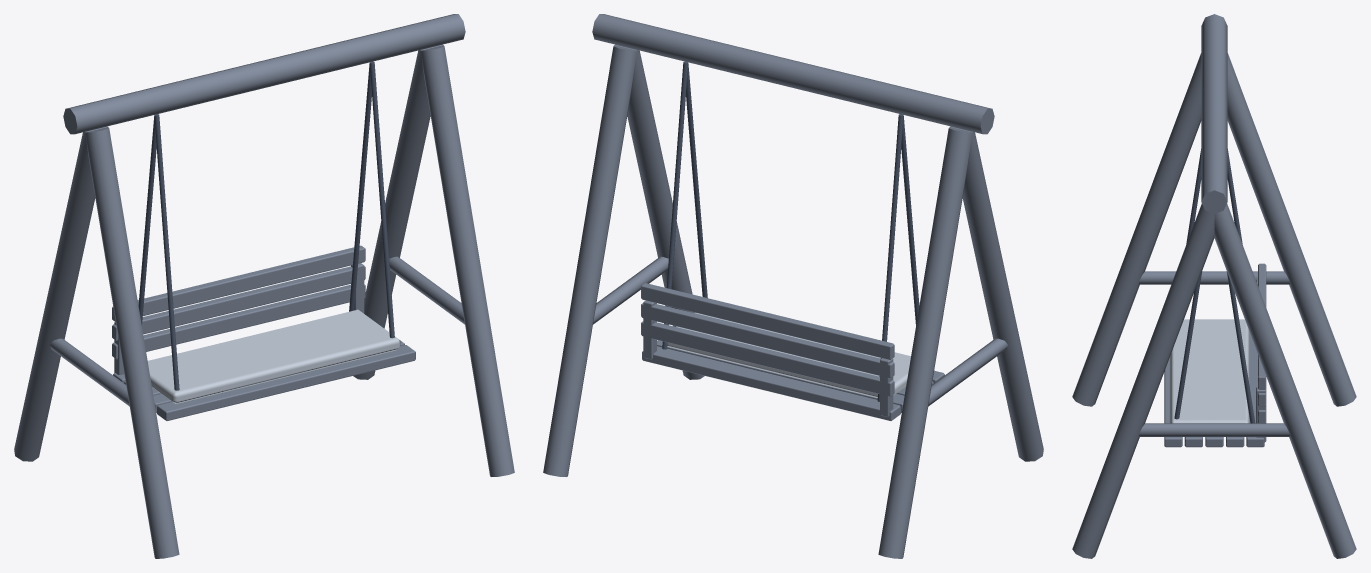
Rendered from 庭院秋千-lite.glb.
The picture shows the model from 3 angles, left to right: view 1: azimuth 30°, elevation 25°; view 2: azimuth 150°, elevation 25°; view 3: azimuth 270°, elevation 25°; orthographic projection. The views are drawn at different scales.
Parts seen in each view (by area): view 1: garden-swing; view 2: garden-swing; view 3: garden-swing.
Part boxes in pixels (bbox=[...]): garden-swing: bbox=[14, 14, 514, 558]; garden-swing: bbox=[543, 14, 1043, 558]; garden-swing: bbox=[1072, 14, 1356, 558].
Bounding box in the file's own units: 2.2 × 2.2 × 1.5.
